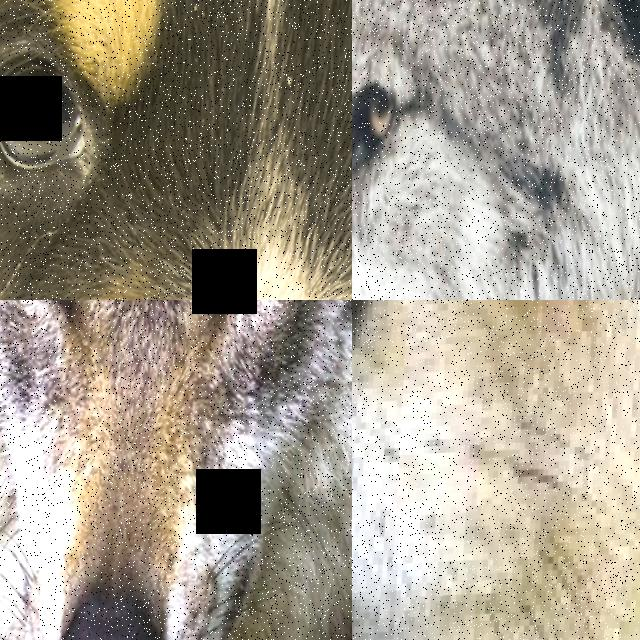dog: (0, 0, 352, 300), (352, 300, 640, 640)
wolf: (0, 300, 352, 640), (352, 0, 640, 300)
